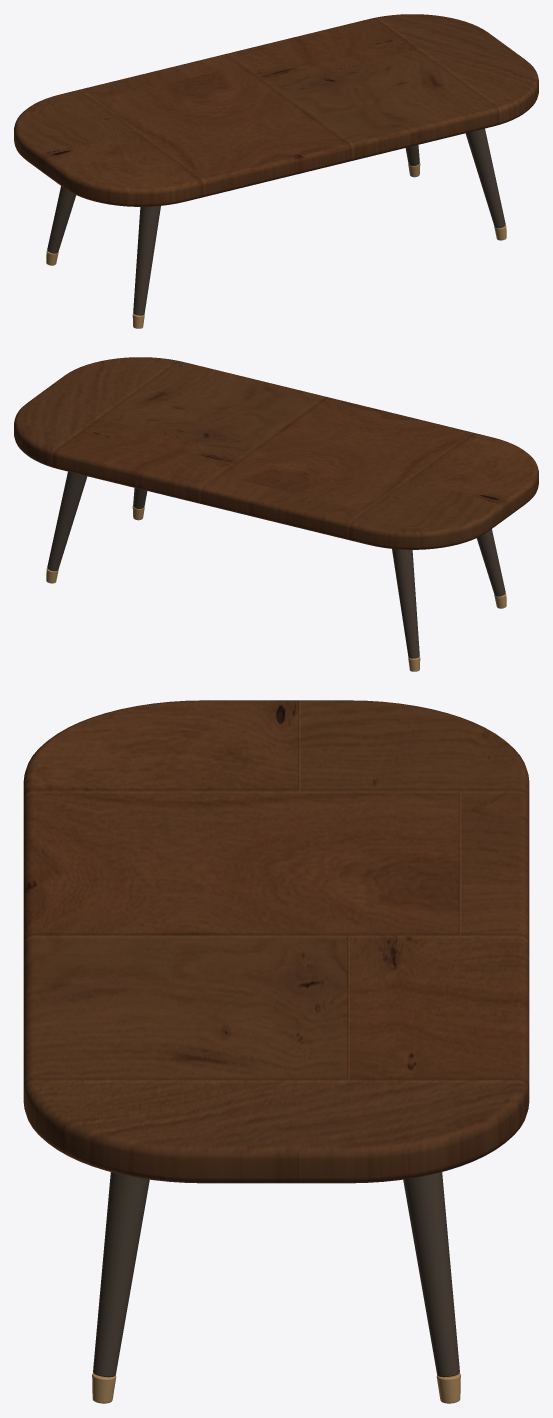
Rendered from entrance-lounge.glb.
The picture shows the model from 3 angles, top to bottom: view 1: azimuth 30°, elevation 25°; view 2: azimuth 150°, elevation 25°; view 3: azimuth 270°, elevation 25°; orthographic projection. The views are drawn at different scales.
Parts seen in each view (by area): view 1: Entrance lounge | Walnut tabletop, Entrance lounge | Dark bronze legs, Entrance lounge | Brushed brass ferrules; view 2: Entrance lounge | Walnut tabletop, Entrance lounge | Dark bronze legs, Entrance lounge | Brushed brass ferrules; view 3: Entrance lounge | Walnut tabletop, Entrance lounge | Dark bronze legs, Entrance lounge | Brushed brass ferrules.
Boxes of the visible parts, x1,y1,x2,y2 form: Entrance lounge | Walnut tabletop: [14, 14, 538, 206]; Entrance lounge | Dark bronze legs: [47, 128, 505, 315]; Entrance lounge | Brushed brass ferrules: [46, 162, 506, 328]; Entrance lounge | Walnut tabletop: [14, 357, 538, 549]; Entrance lounge | Dark bronze legs: [47, 471, 505, 658]; Entrance lounge | Brushed brass ferrules: [46, 505, 506, 671]; Entrance lounge | Walnut tabletop: [23, 700, 529, 1183]; Entrance lounge | Dark bronze legs: [93, 1172, 459, 1377]; Entrance lounge | Brushed brass ferrules: [92, 1373, 460, 1403].
Size of what is drawn, in the model's own units: 1.4 by 0.4322 by 0.66.
Materials: 4 (1 with a texture image).
